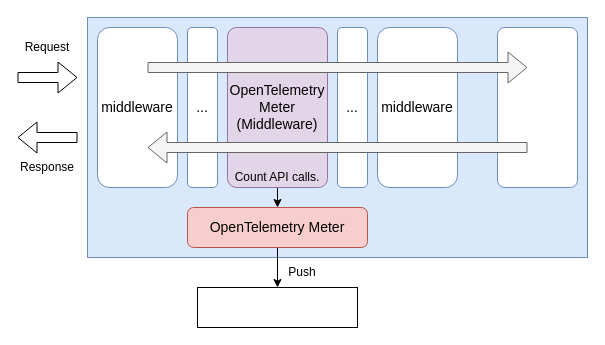
The diagram is 605 pixels wide and 345 high, and some of its shapes have lost their labels. The centre of each missing label's shape, as x and y in pixels:
"Handler" goes at point 537,107.
"Metrics Backend" goes at point 277,307.
